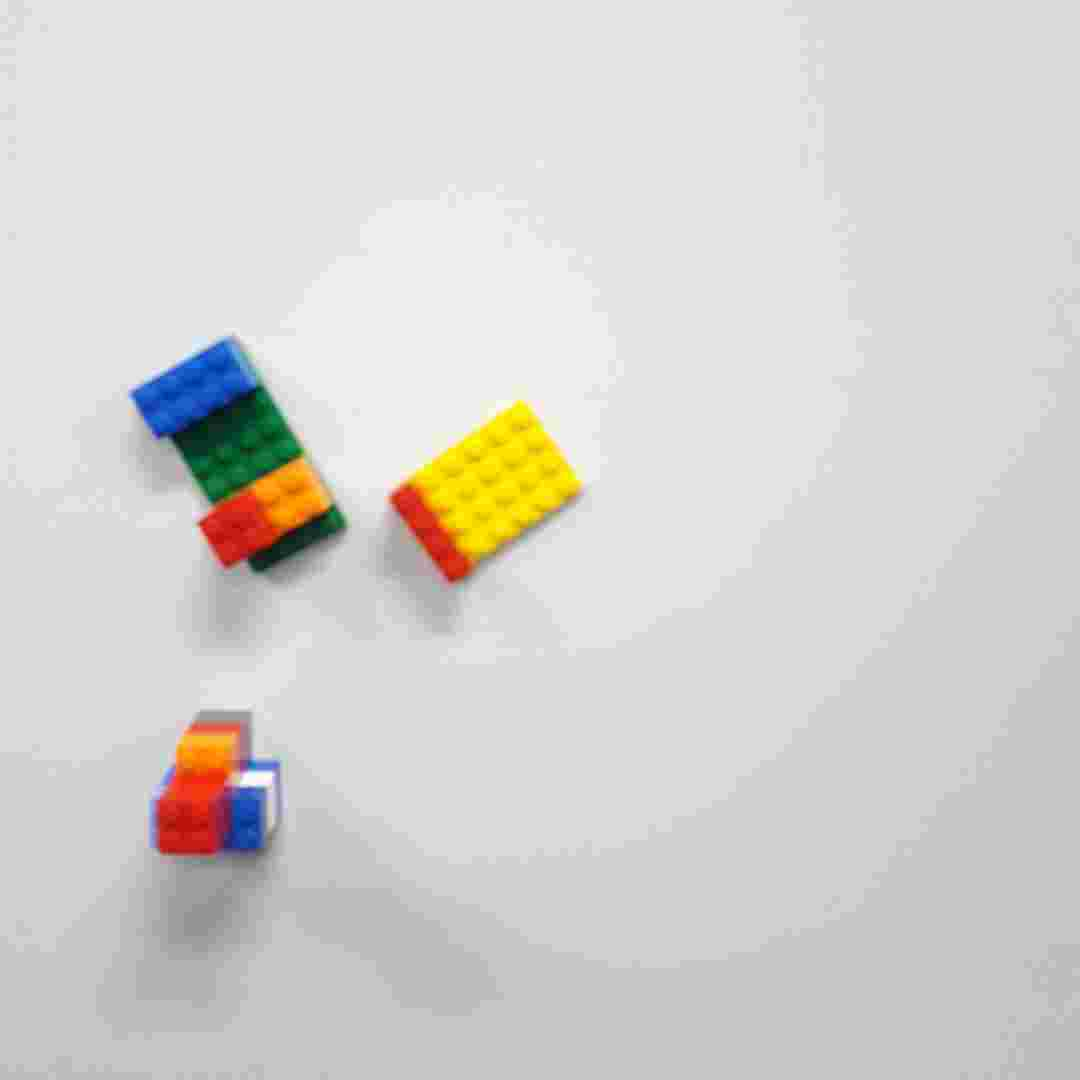LEGO: (128, 330, 352, 577), (382, 400, 589, 579), (146, 708, 290, 860)
